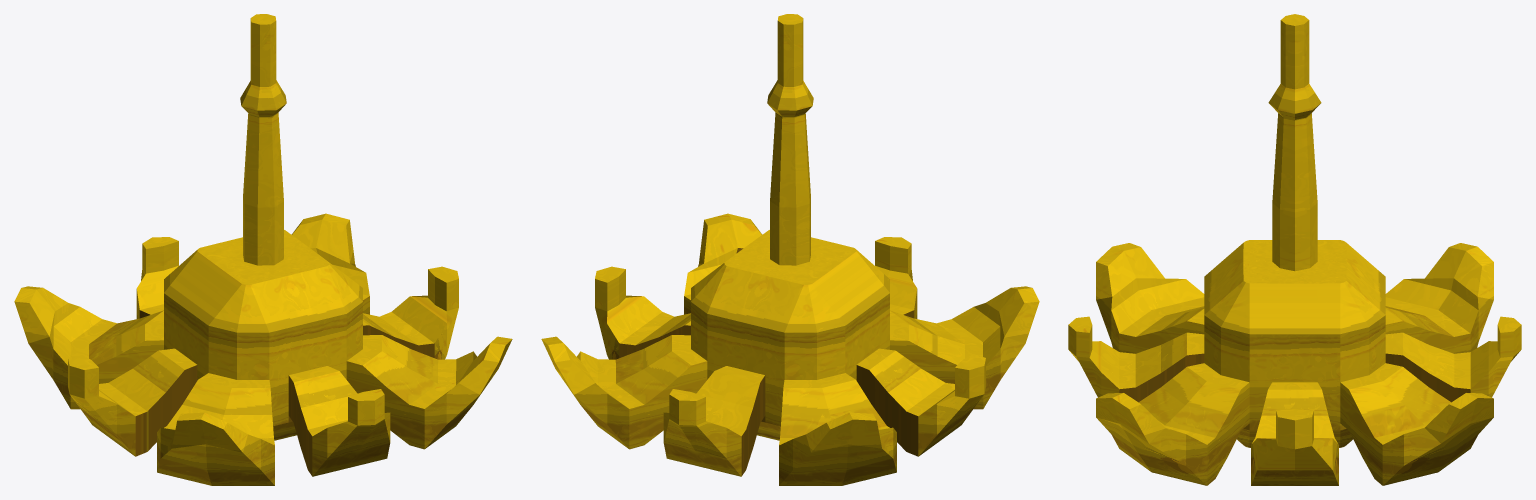
File: chandelier.fbx
3 renders of one model, left to right at view 1: azimuth 30°, elevation 25°; view 2: azimuth 150°, elevation 25°; view 3: azimuth 270°, elevation 25°, orthographic.
Visible parts, largest first — view 1: Cube; view 2: Cube; view 3: Cube.
Boxes of the visible parts, bbox=[...] form: Cube: bbox=[14, 14, 512, 485]; Cube: bbox=[541, 14, 1039, 485]; Cube: bbox=[1068, 14, 1521, 485].
Bounding box in the file's own units: 502 × 494 × 499.
